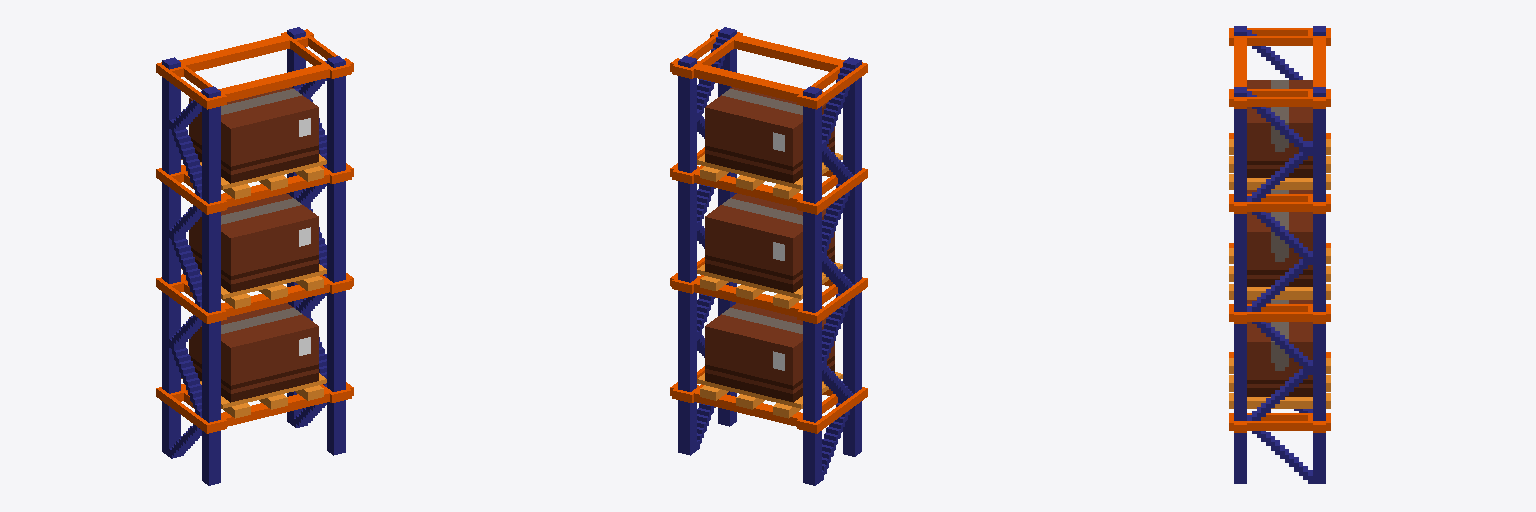
3 views of the same model, side by side, from view 1: azimuth 30°, elevation 25°; view 2: azimuth 150°, elevation 25°; view 3: azimuth 270°, elevation 25° (orthographic).
Parts seen in each view (by area): view 1: object 1; view 2: object 1; view 3: object 1.
Boxes of the visible parts, <box> form: object 1: <box>156,27,353,485</box>; object 1: <box>670,27,867,485</box>; object 1: <box>1229,26,1330,483</box>.
Bounding box in the file's own units: 3.7 × 9.3 × 2.2.
1 materials, 1 textured.